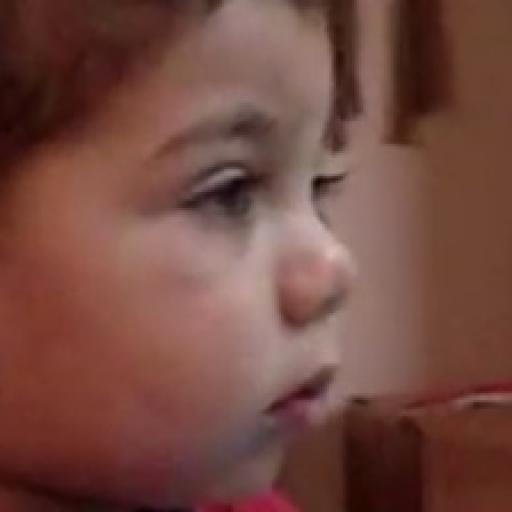Autism: (18, 58, 468, 508)
